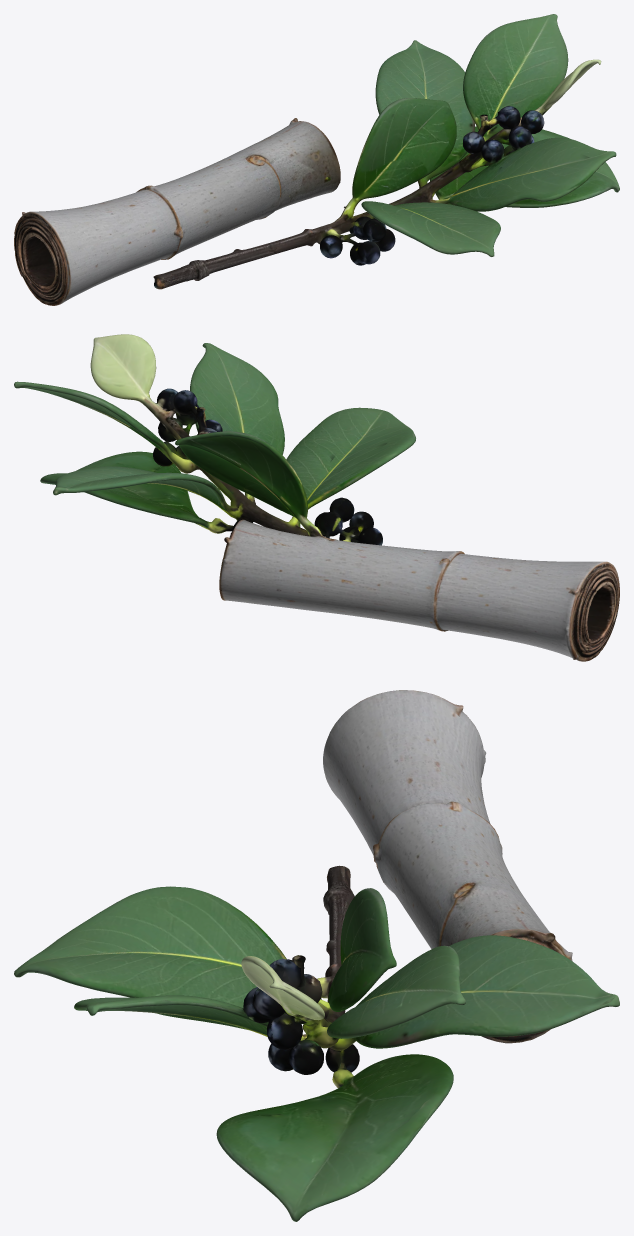
Rendered from tianzhugui.glb.
3 views of the same model, one above another, from view 1: azimuth 30°, elevation 25°; view 2: azimuth 150°, elevation 25°; view 3: azimuth 270°, elevation 25° (orthographic). The views are drawn at different scales.
Visible parts, largest first — view 1: node_0; view 2: node_0; view 3: node_0.
Boxes of the visible parts, x1,y1,x2,y2 form: node_0: [14, 14, 619, 305]; node_0: [14, 334, 619, 661]; node_0: [14, 690, 619, 1221].
Size of the model in its own units: 1.14 by 0.3005 by 0.7075.
Materials: 1 (1 with a texture image).
